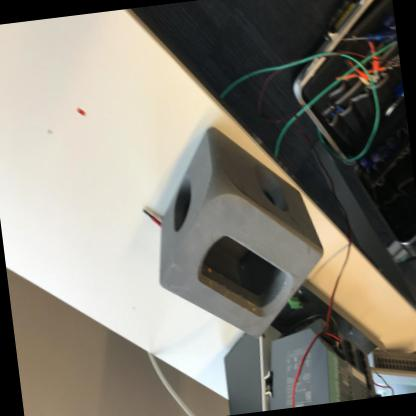CornerCasting: (138, 111, 335, 350)
